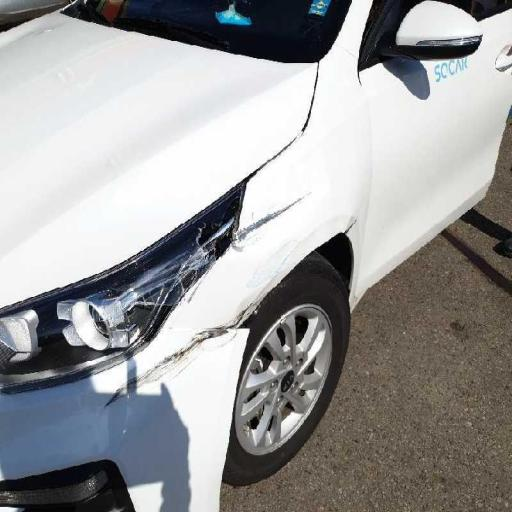broken: (83, 191, 253, 421)
